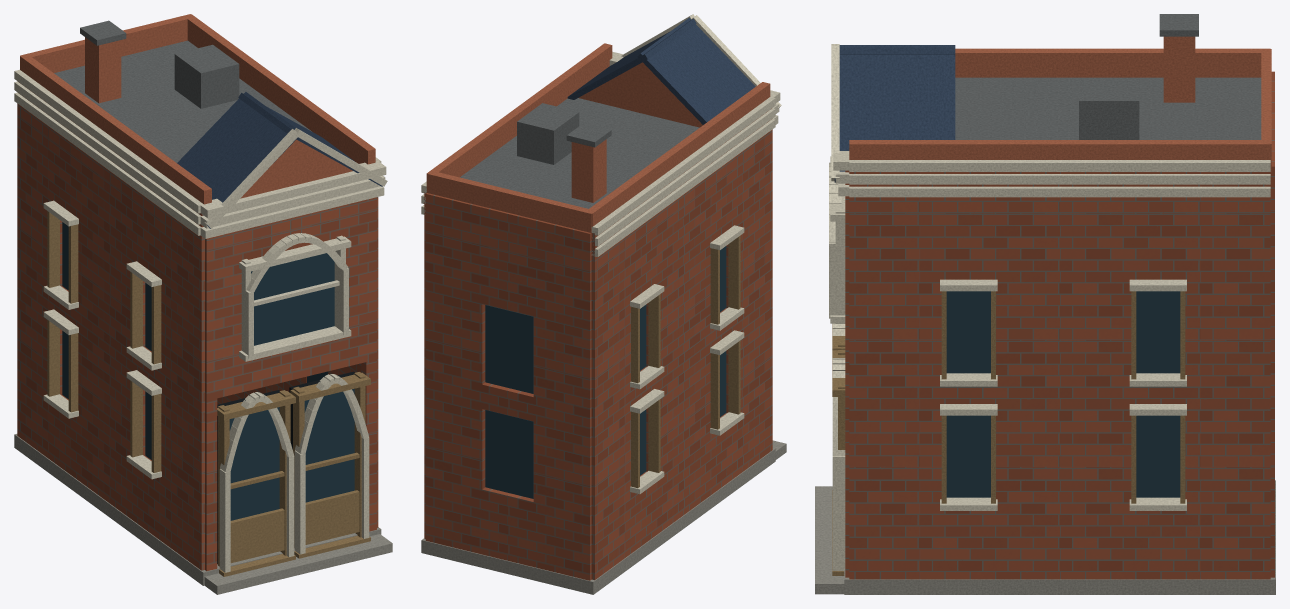
File: CLSTGA17_lod2.glb
3 renders of one model, left to right at view 1: azimuth 30°, elevation 25°; view 2: azimuth 150°, elevation 25°; view 3: azimuth 270°, elevation 25°, orthographic. The views are drawn at different scales.
Parts seen in each view (by area): view 1: CLSTGA17_LOD2; view 2: CLSTGA17_LOD2; view 3: CLSTGA17_LOD2.
Part boxes in pixels (x1,y1,x2,y2): CLSTGA17_LOD2: (14, 14, 392, 594); CLSTGA17_LOD2: (421, 14, 786, 594); CLSTGA17_LOD2: (815, 14, 1275, 594).
Size of the model in its own units: 3.71 by 7.86 by 6.57.
Materials: 9 (7 with a texture image).
